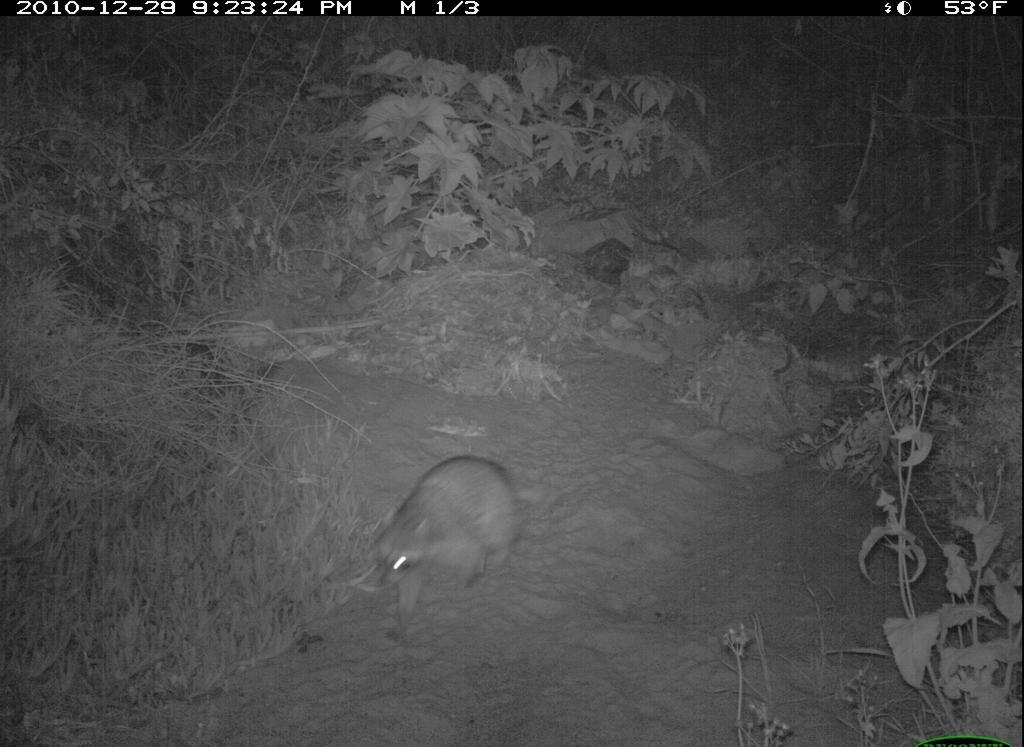raccoon: (340, 445, 542, 638)
